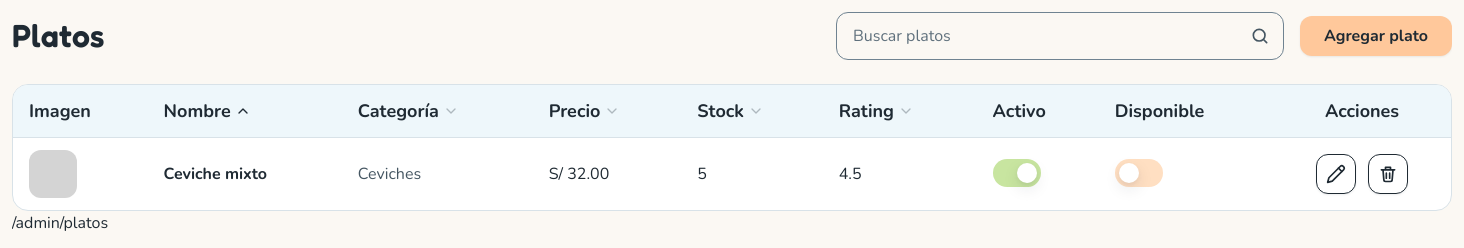
AdminProductsPage › un switch cambia el estado del plato guardando sus demás datos e imágenes
What coordinates should you click on to do the following:
click the switch named "Disponible: Ceviche mixto"
I would click on:
 (1139, 172)
Its box is x1=1115 y1=158 x2=1163 y2=186.
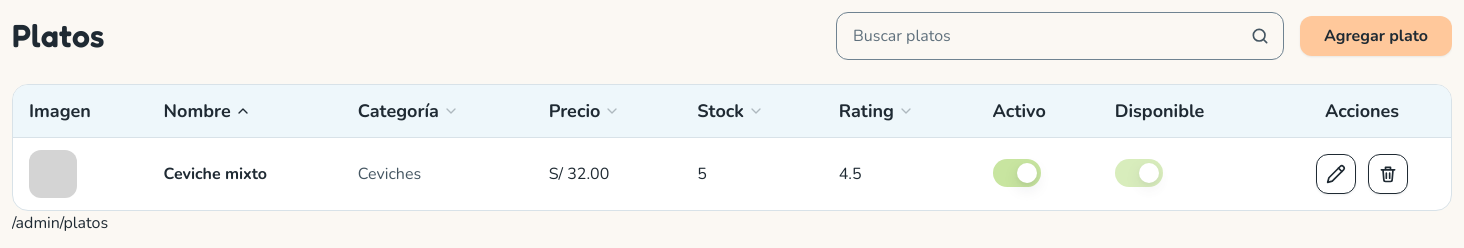
Result: the switch named "Disponible: Ceviche mixto" is checked at x1=1115 y1=158 x2=1163 y2=186
Result: the switch named "Disponible: Ceviche mixto" is disabled at x1=1115 y1=158 x2=1163 y2=186
